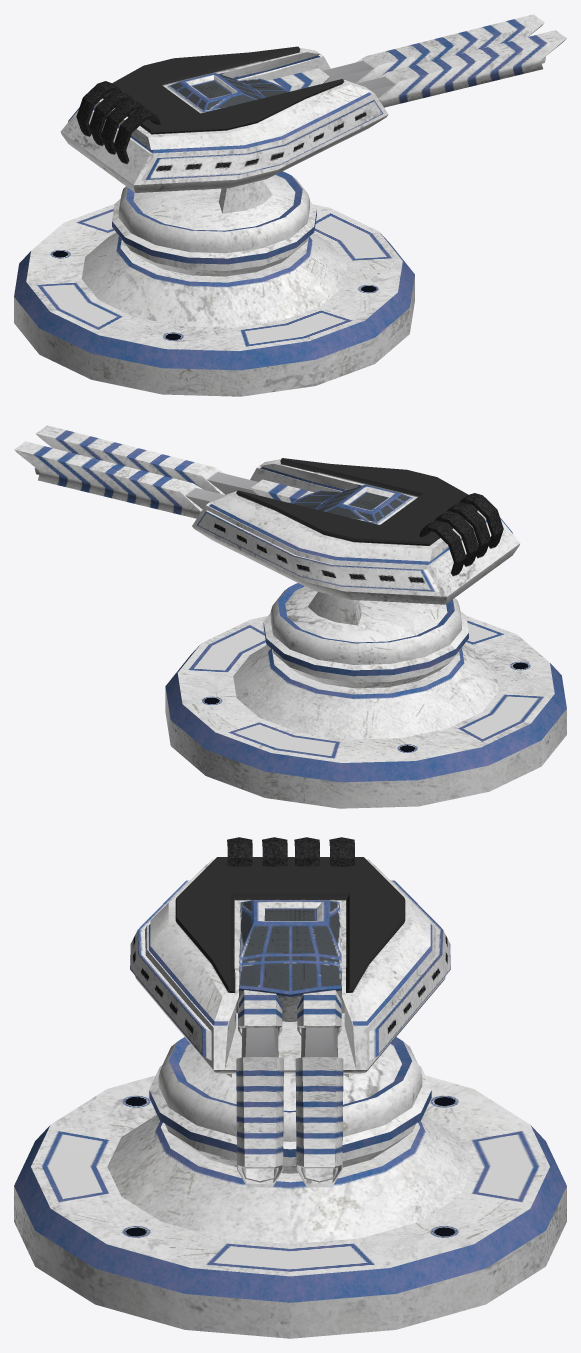
File: GunTower_2.fbx
The picture shows the model from 3 angles, top to bottom: view 1: azimuth 30°, elevation 25°; view 2: azimuth 150°, elevation 25°; view 3: azimuth 270°, elevation 25°; orthographic projection. The views are drawn at different scales.
Visible parts, largest first — view 1: Platform_lp, Turret_lp, Axses_lp, GunP_lp, GunL_lp; view 2: Platform_lp, Turret_lp, Axses_lp, GunL_lp, GunP_lp; view 3: Platform_lp, Turret_lp, Axses_lp, GunP_lp, GunL_lp.
Boxes of the visible parts, x1,y1,x2,y2 form: Platform_lp: (14,204,414,396); Turret_lp: (60,46,388,192); Axses_lp: (112,171,316,276); GunP_lp: (356,30,566,107); GunL_lp: (322,14,544,83); Platform_lp: (165,615,566,808); Turret_lp: (192,458,520,604); Axses_lp: (263,583,468,688); GunL_lp: (14,441,224,518); GunP_lp: (35,425,258,494); Platform_lp: (14,1075,566,1338); Turret_lp: (130,837,450,1073); Axses_lp: (149,1037,431,1173); GunP_lp: (236,1028,283,1187); GunL_lp: (295,1028,343,1187).
Bounding box in the file's own units: 198 × 127 × 288.
1 material, 1 textured.
